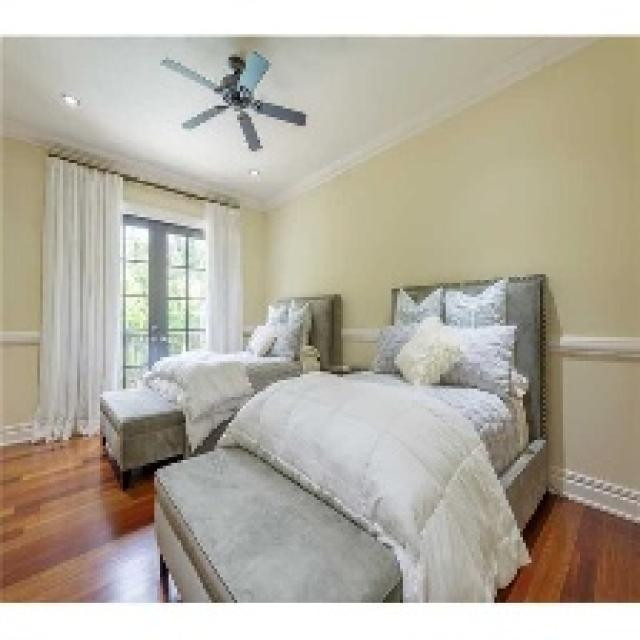Bed: (152, 271, 548, 600)
